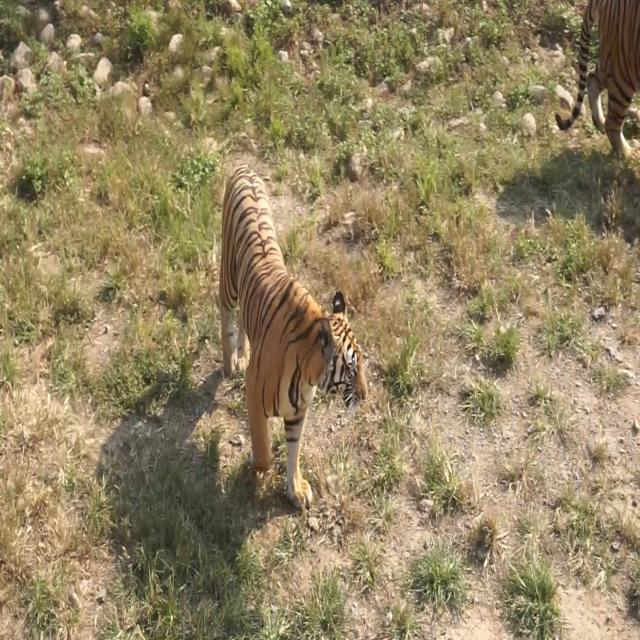Tiger: (209, 141, 377, 527), (555, 0, 639, 156)
